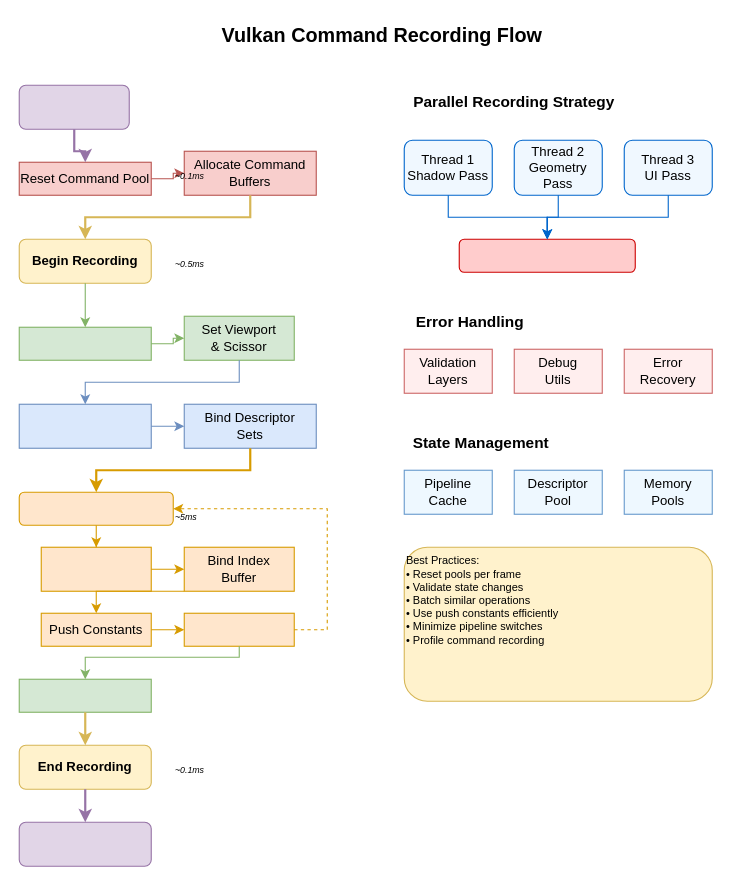
Some shapes in this 732 by 886 pixel diagram are drawn without their labels. Each missing label, with the centre of its shape:
"Begin Render Pass" goes at (x=84, y=343).
"Bind Graphics Pipeline" goes at (x=84, y=425).
"Bind Vertex Buffers" goes at (x=95, y=568).
"Draw Indexed" goes at (x=238, y=629).
"End Render Pass" goes at (x=84, y=695).
"For Each Draw Call:" goes at (x=95, y=508).
"Frame Start" goes at (x=73, y=106).
"Submit to Queue" goes at (x=84, y=843).
"Synchronization Point" goes at (x=546, y=255).
